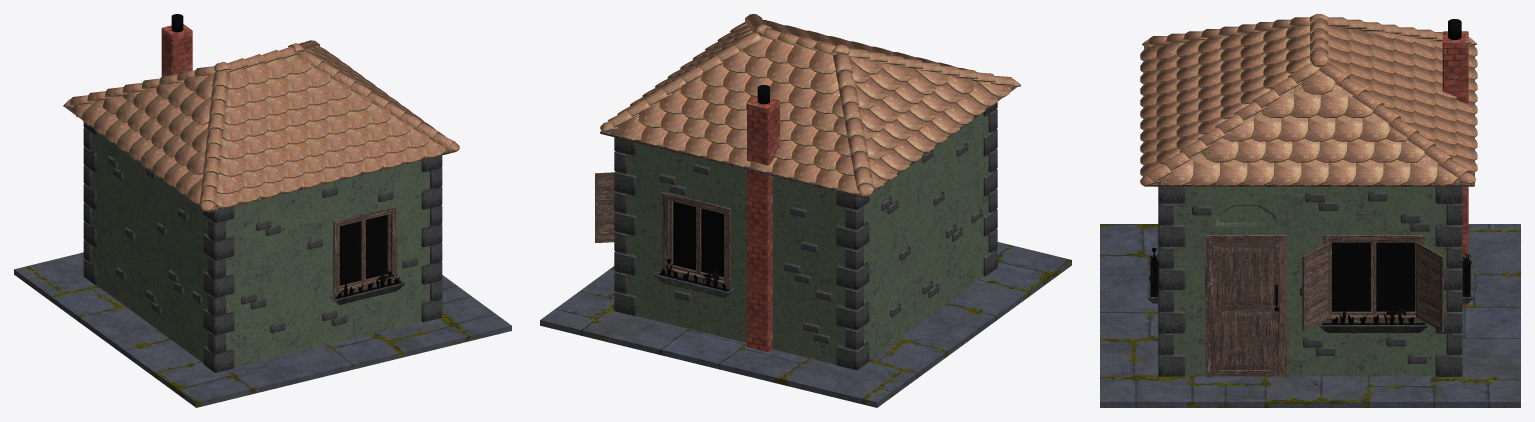
The model's file is House.fbx.
3 views of the same model, side by side, from view 1: azimuth 30°, elevation 25°; view 2: azimuth 150°, elevation 25°; view 3: azimuth 270°, elevation 25° (orthographic). The views are drawn at different scales.
Visible parts, largest first — view 1: house; view 2: house; view 3: house, door.
Part boxes in pixels (box(x1,y1,x2,y2)): house: box(14, 14, 511, 407); house: box(540, 14, 1071, 407); house: box(1100, 14, 1520, 407); door: box(1213, 243, 1279, 376).
Size of the model in its own units: 282 by 210 by 282.
1 material, 1 textured.
